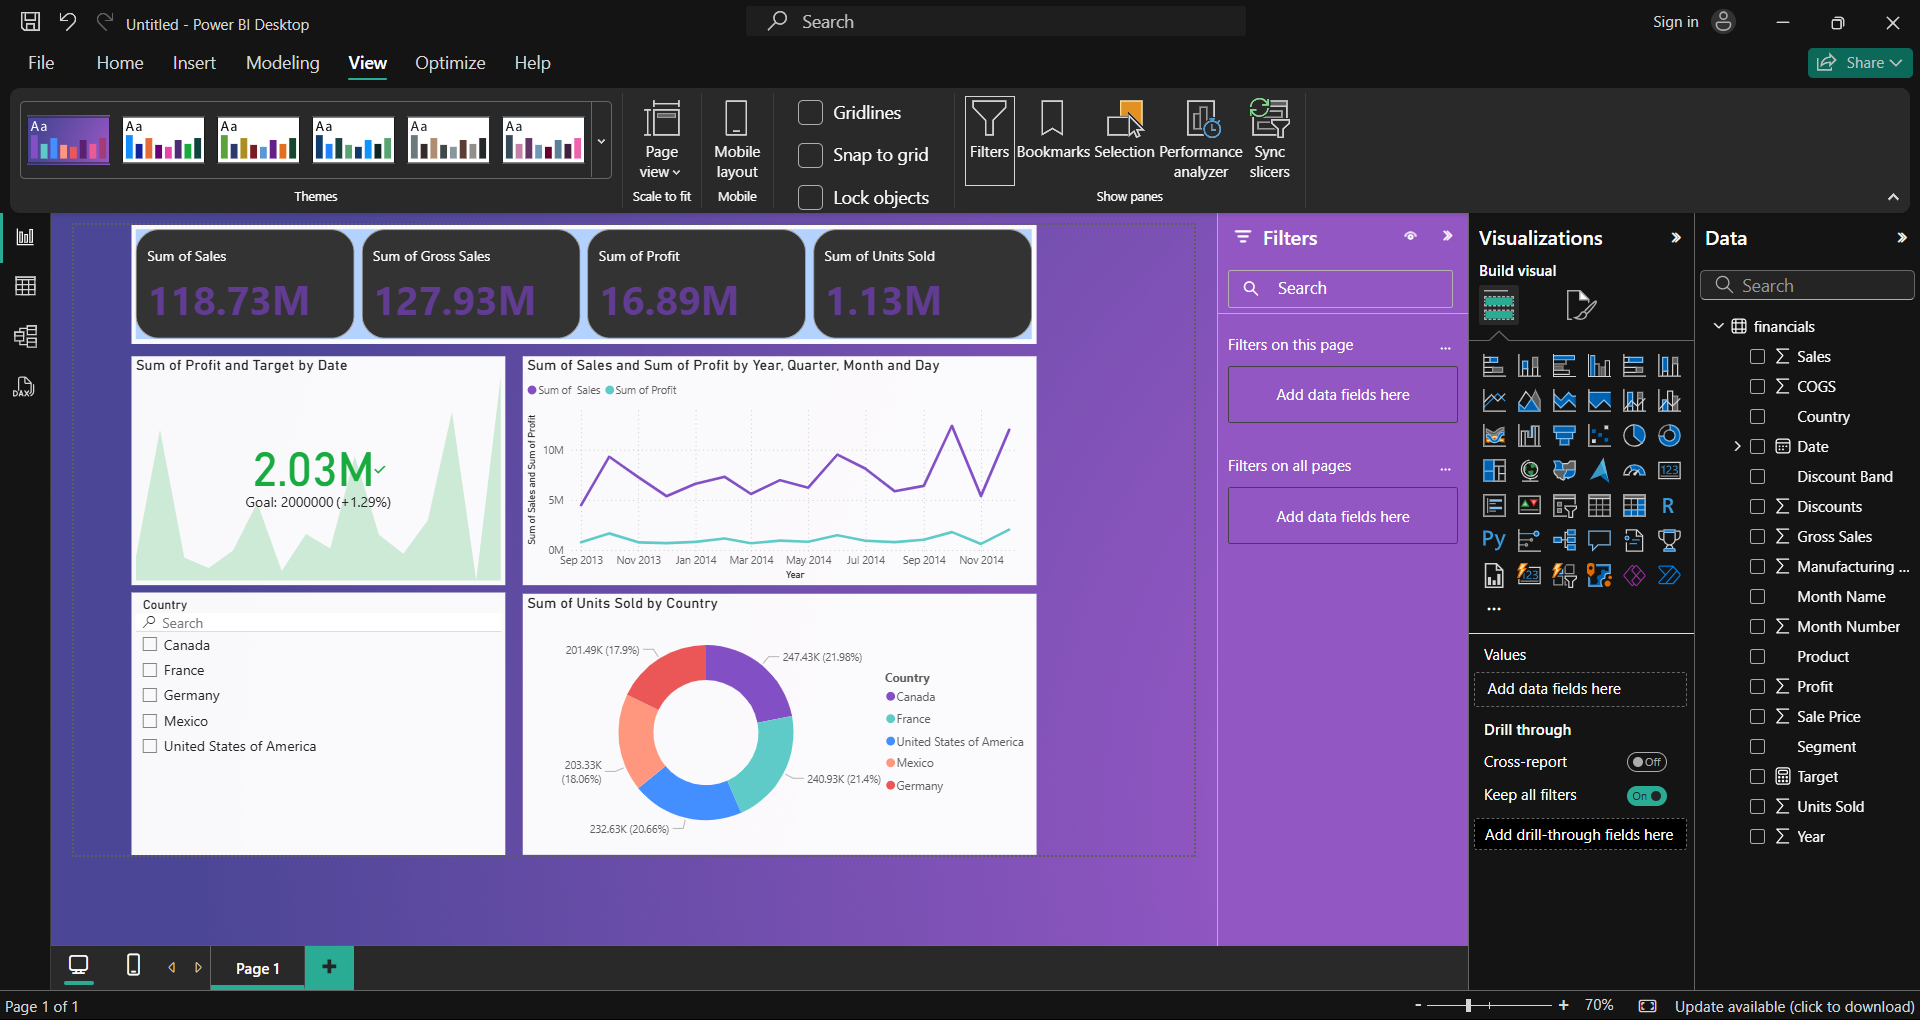

The page's visual inventory and layout, read from the dashboard file:
{"tool":"powerbi","page":{"name":"Page 1","canvas":[1280,720],"ordinal":0},"visuals":[{"type":"kpi","fields":{"Indicator":["Sum(financials.Profit)"],"TrendLine":["financials.Date"],"Goal":["financials.Target"]},"box":[65.7,150,427.1,261.4],"z":0},{"type":"slicer","fields":{"Values":["financials.Country"]},"box":[65.7,420,427.1,300],"z":1000},{"type":"donutChart","fields":{"Category":["financials.Country"],"Y":["Sum(financials.Units Sold)"]},"box":[512.9,421.4,587.1,298.6],"z":2000},{"type":"lineChart","fields":{"Y":["Sum(financials. Sales)","Sum(financials.Profit)"],"Category":["financials.Date.Variation.Date Hierarchy.Year","financials.Date.Variation.Date Hierarchy.Quarter","financials.Date.Variation.Date Hierarchy.Month","financials.Date.Variation.Date Hierarchy.Day"]},"box":[512.9,150,587.1,261.4],"z":3000},{"type":"cardVisual","fields":{"Data":["Sum(financials. Sales)","Sum(financials.Gross Sales)","Sum(financials.Profit)","Sum(financials.Units Sold)"]},"box":[65.7,0,1034.3,135.7],"z":4501}]}

Visuals, with their boxes on the page's 1280x720 design canvas (x1, y1, x2, y2). These are canvas units, not pixel positions in the 1920x1020 screenshot, which may show the page scaled, cropped or inside an application window:
kpi - Sum(financials.Profit) x financials.Date: Rect(66, 150, 493, 411)
slicer - financials.Country: Rect(66, 420, 493, 720)
donutChart - financials.Country x Sum(financials.Units Sold): Rect(513, 421, 1100, 720)
lineChart - Sum(financials. Sales) x Sum(financials.Profit): Rect(513, 150, 1100, 411)
cardVisual - Sum(financials. Sales) x Sum(financials.Gross Sales): Rect(66, 0, 1100, 136)
